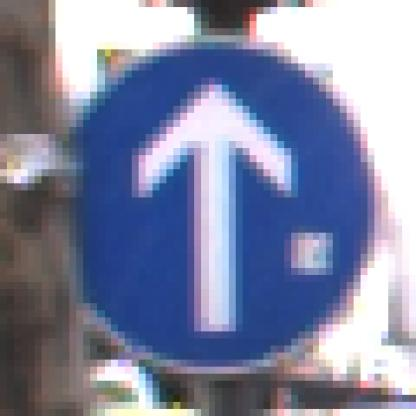AheadOnly: (43, 36, 382, 382)
